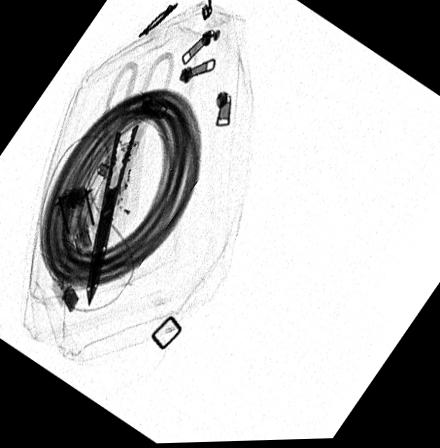Scissors: (80, 50, 176, 310)
